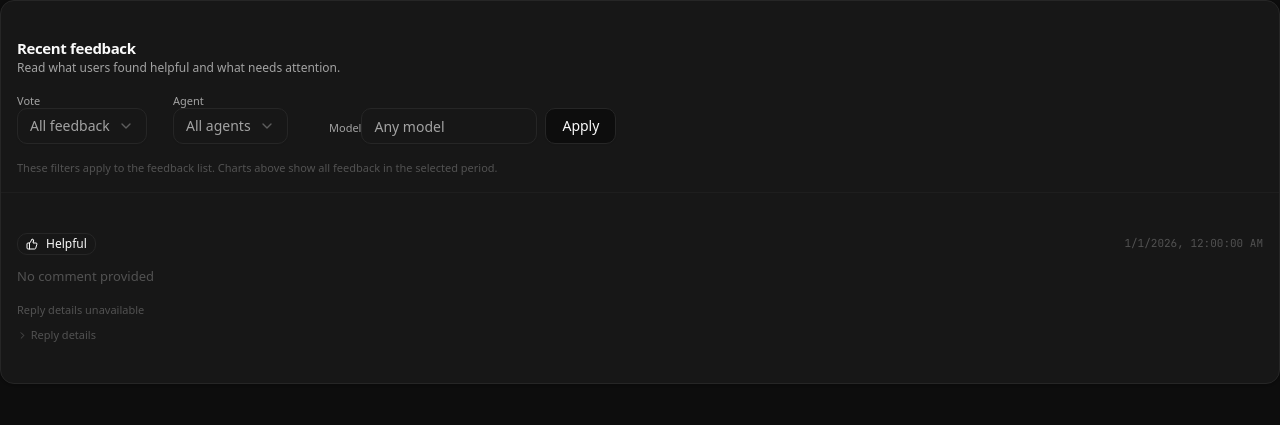
it: AssistantFeedbackPanel › leads with the vote and comment and keeps the message id in collapsed details
Check: the text "No comment provided" is shown, box [17,267,154,285]
Check: the dropdown named "Vote" is shown, box [17,108,147,144]
Click the heading "Reply details". click: (56, 335)
box: [17,327,96,343]
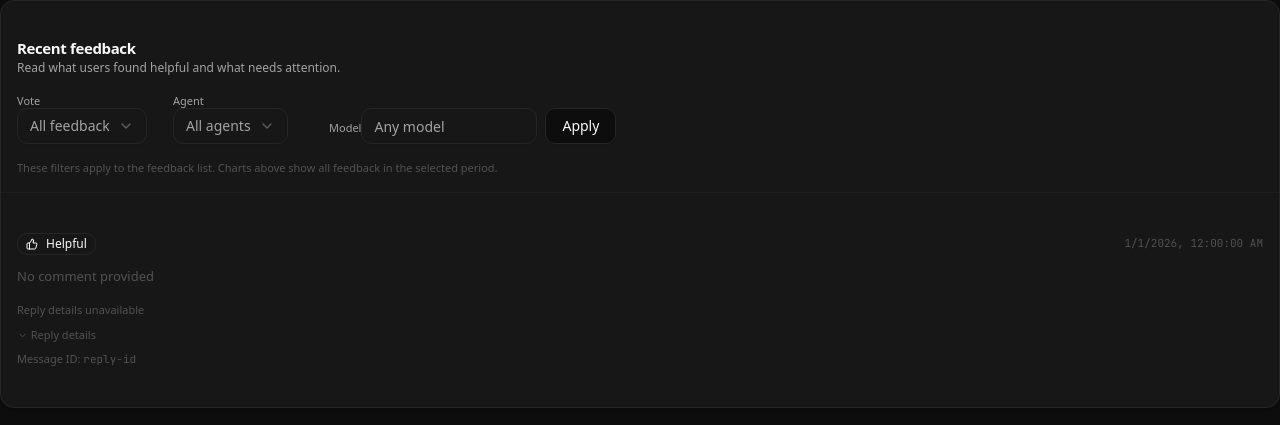
Check: the text "Reply details unavailable" is shown, box [17,302,144,317]
Check: the text "reply-id" is shown, box [83,352,136,366]
